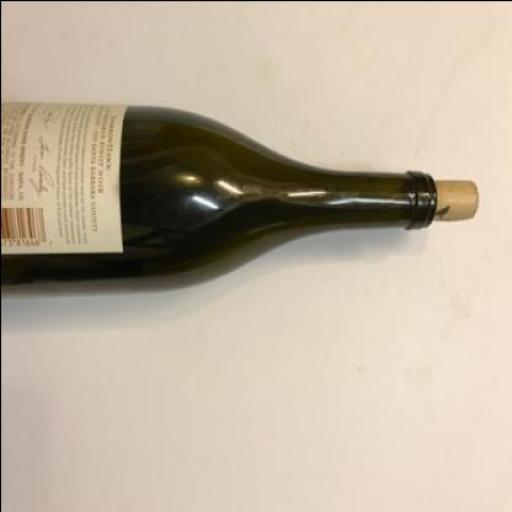glass: (1, 103, 438, 295)
